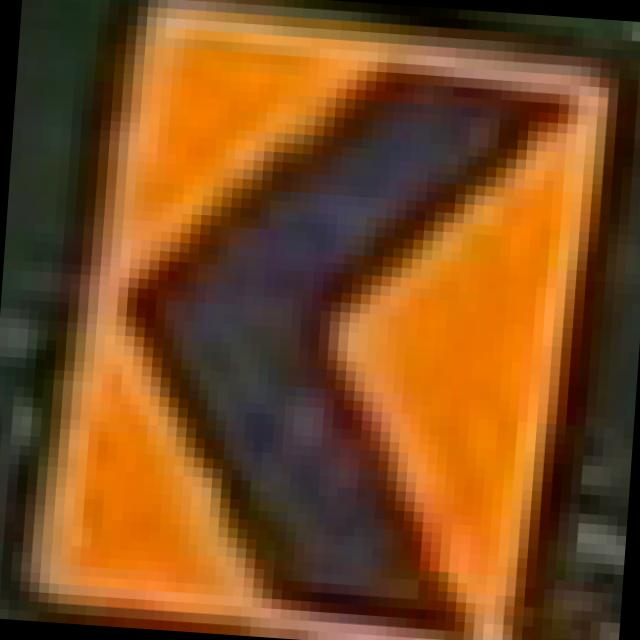curveleft_sign: (17, 0, 623, 640)
